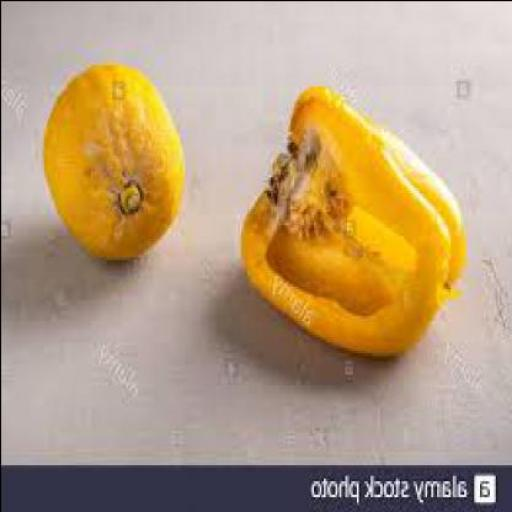biodegradable: (242, 82, 466, 352), (43, 58, 186, 256)
